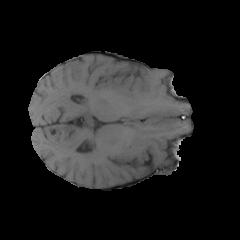glioma: (114, 67, 148, 100)
